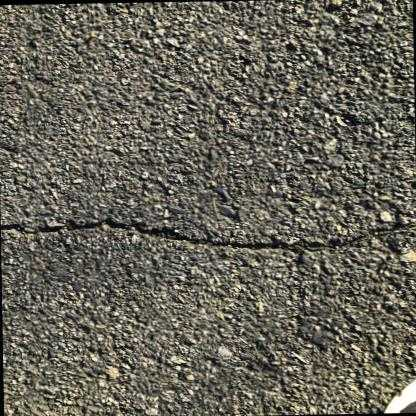crack: (0, 218, 400, 248)
